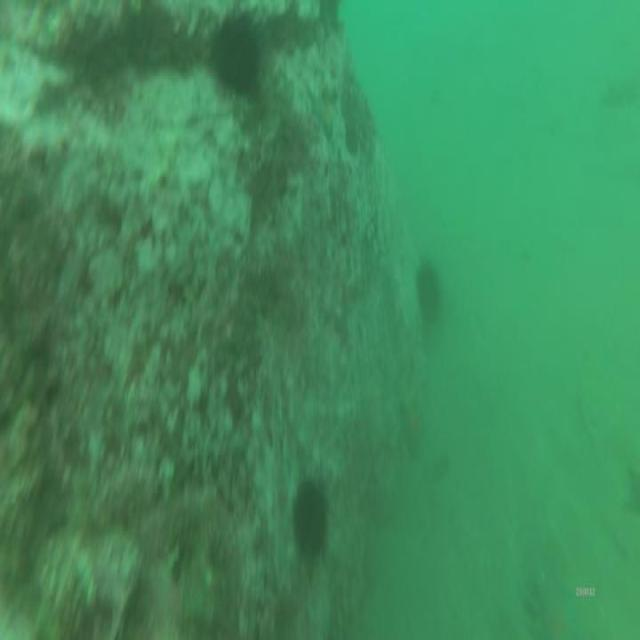echinus: (216, 17, 260, 95), (293, 482, 329, 551), (418, 264, 441, 316)
starfish: (400, 390, 427, 449)
